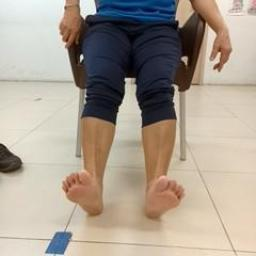Plantar View -Both Feet-: (46, 153, 190, 227)
